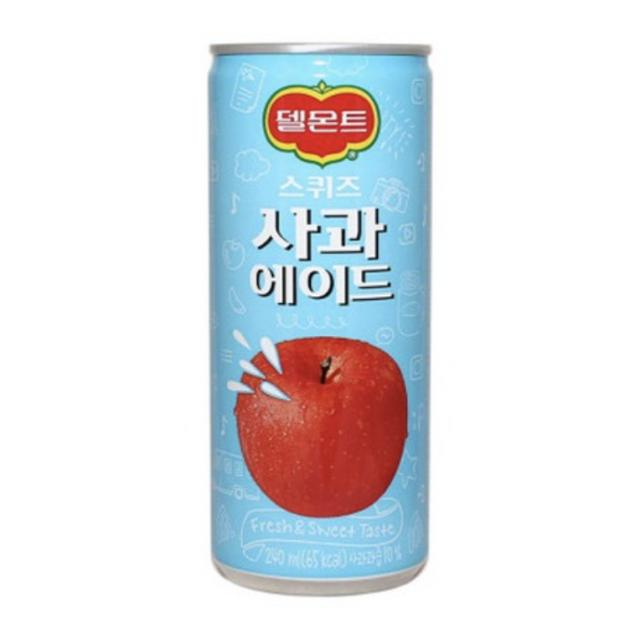recyclable: (166, 16, 456, 602)
